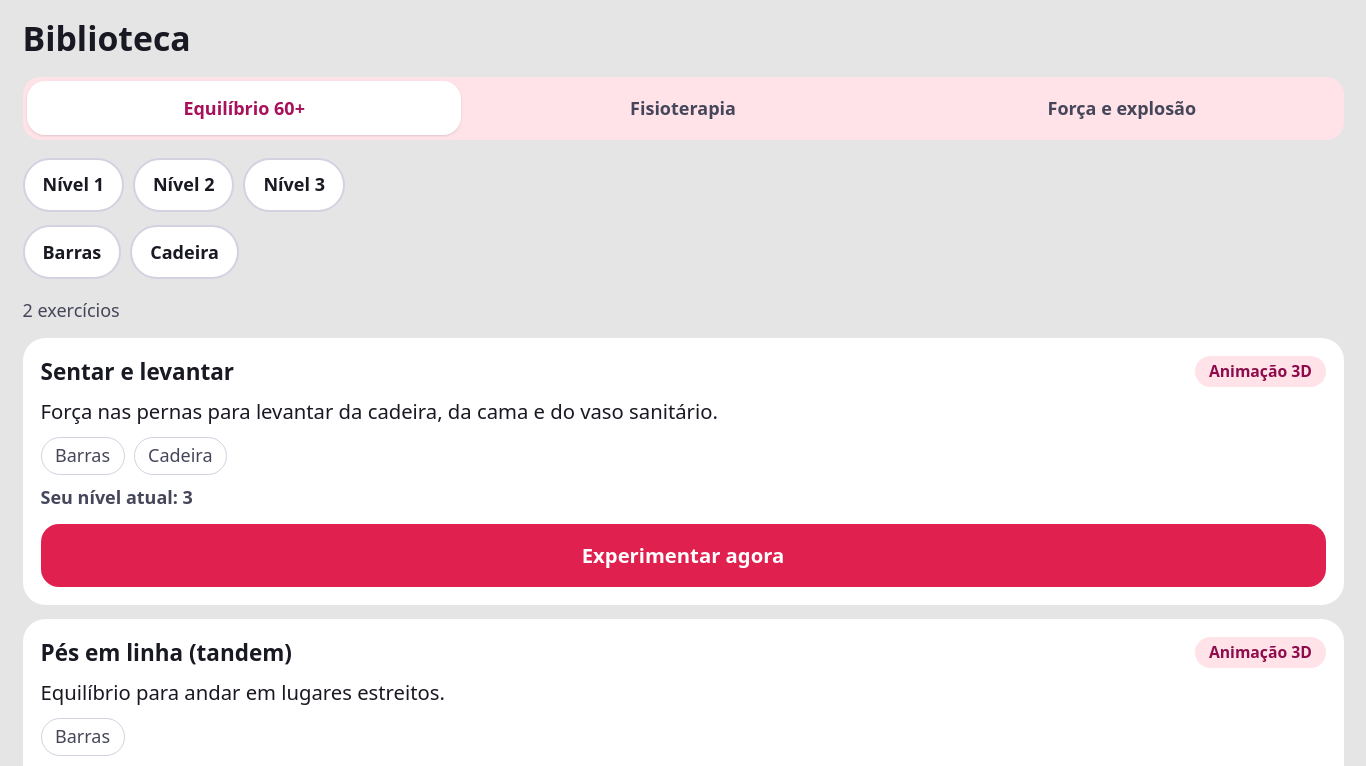
Test: tocar de novo no filtro de nível o desliga
The width and height of the screenshot is (1366, 766).
Click the button "Nível 3" at [294, 184], box [244,158,345,212]
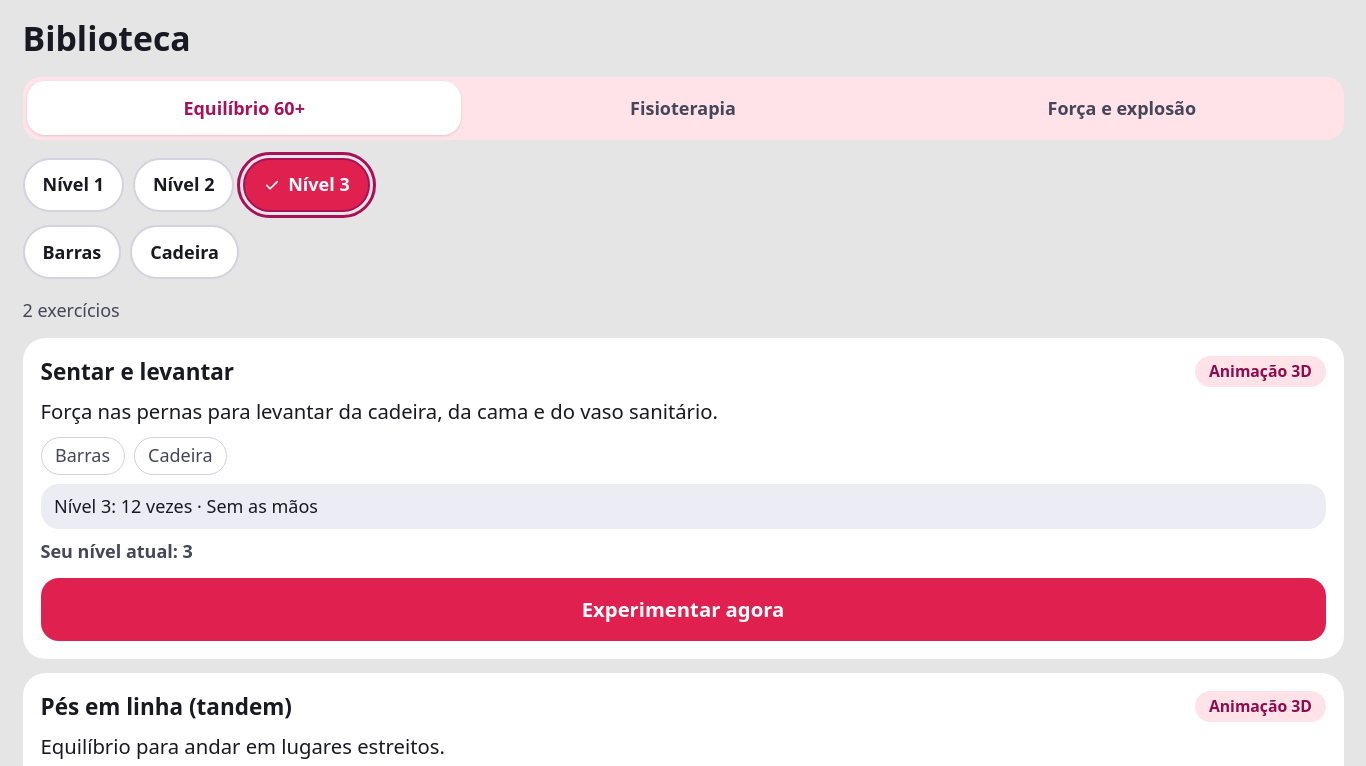
Click the button "Nível 3" at [307, 184], box [244,158,370,212]
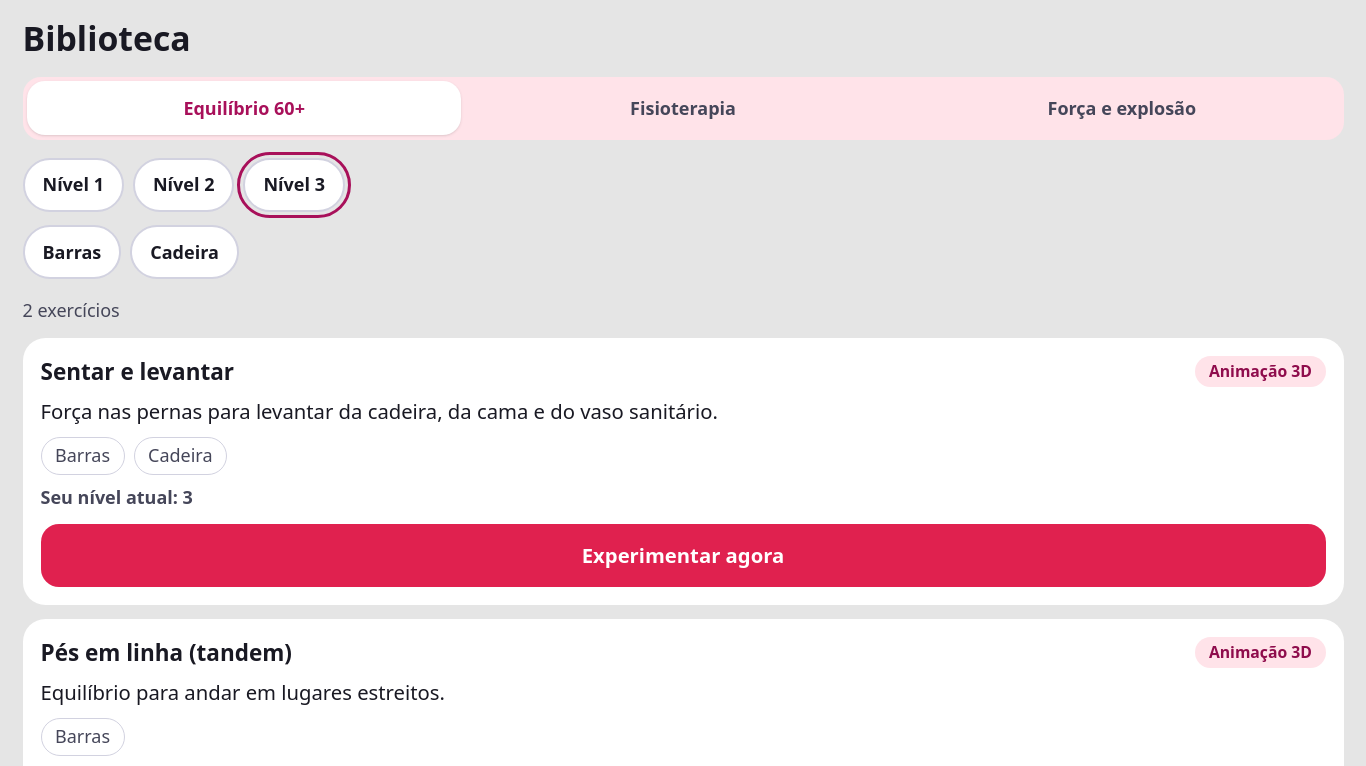
Result: the text "Nível 3:" is gone
